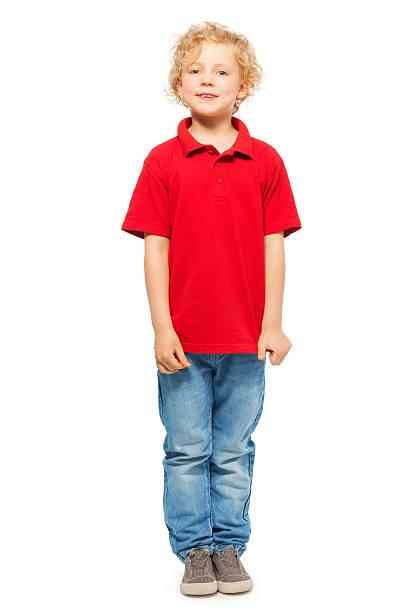Human: (112, 29, 285, 610)
